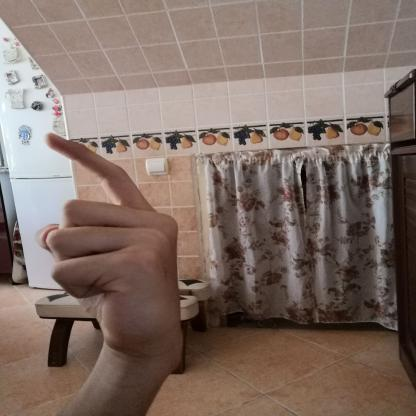RAA: (30, 121, 198, 366)
